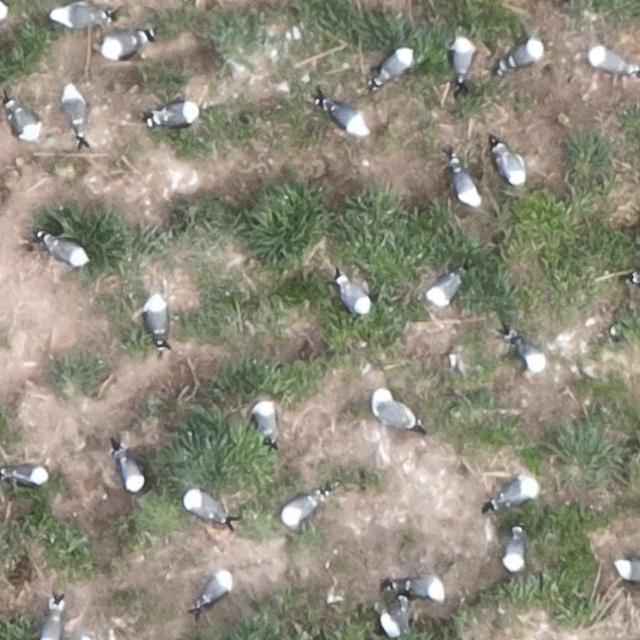umineko: (372, 389, 421, 435), (386, 573, 444, 602), (378, 590, 409, 638), (511, 330, 546, 371), (379, 47, 413, 80), (54, 4, 102, 27), (45, 238, 87, 264), (187, 493, 224, 522), (329, 106, 366, 135), (498, 148, 526, 186), (591, 50, 634, 74), (64, 90, 87, 134), (506, 41, 542, 68), (427, 275, 459, 305), (339, 281, 368, 314), (284, 495, 319, 522), (103, 34, 145, 56), (155, 104, 196, 126), (201, 572, 229, 603), (12, 106, 39, 138), (498, 478, 534, 502), (120, 457, 144, 492), (451, 38, 472, 78), (148, 299, 169, 339), (454, 170, 476, 206), (504, 532, 524, 570), (39, 608, 61, 640), (9, 466, 47, 484), (255, 406, 275, 440), (616, 561, 640, 582)
